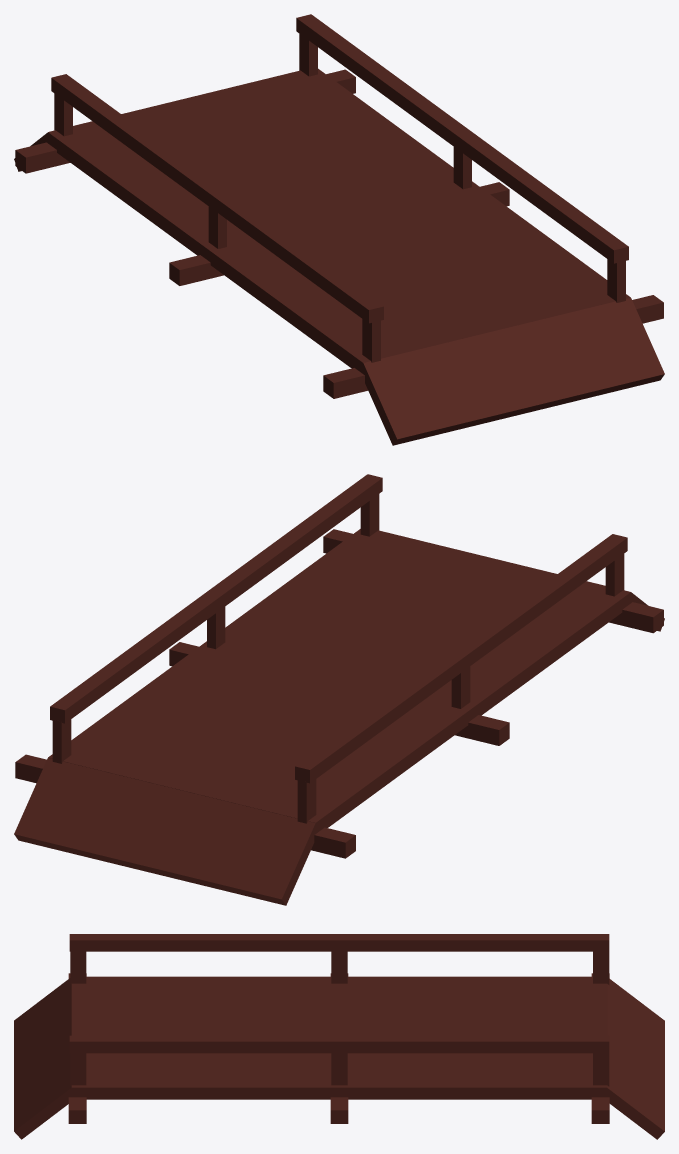
File: wooden_bridge.FBX
The picture shows the model from 3 angles, top to bottom: view 1: azimuth 30°, elevation 25°; view 2: azimuth 150°, elevation 25°; view 3: azimuth 270°, elevation 25°; orthographic projection. The views are drawn at different scales.
Parts seen in each view (by area): view 1: wooden_bridge; view 2: wooden_bridge; view 3: wooden_bridge.
Boxes of the visible parts, x1,y1,x2,y2 form: wooden_bridge: (14, 14, 664, 445); wooden_bridge: (14, 474, 664, 905); wooden_bridge: (14, 934, 664, 1139).
Size of the model in its own units: 5.89 by 1.94 by 11.85.
Materials: 1 (1 with a texture image).
